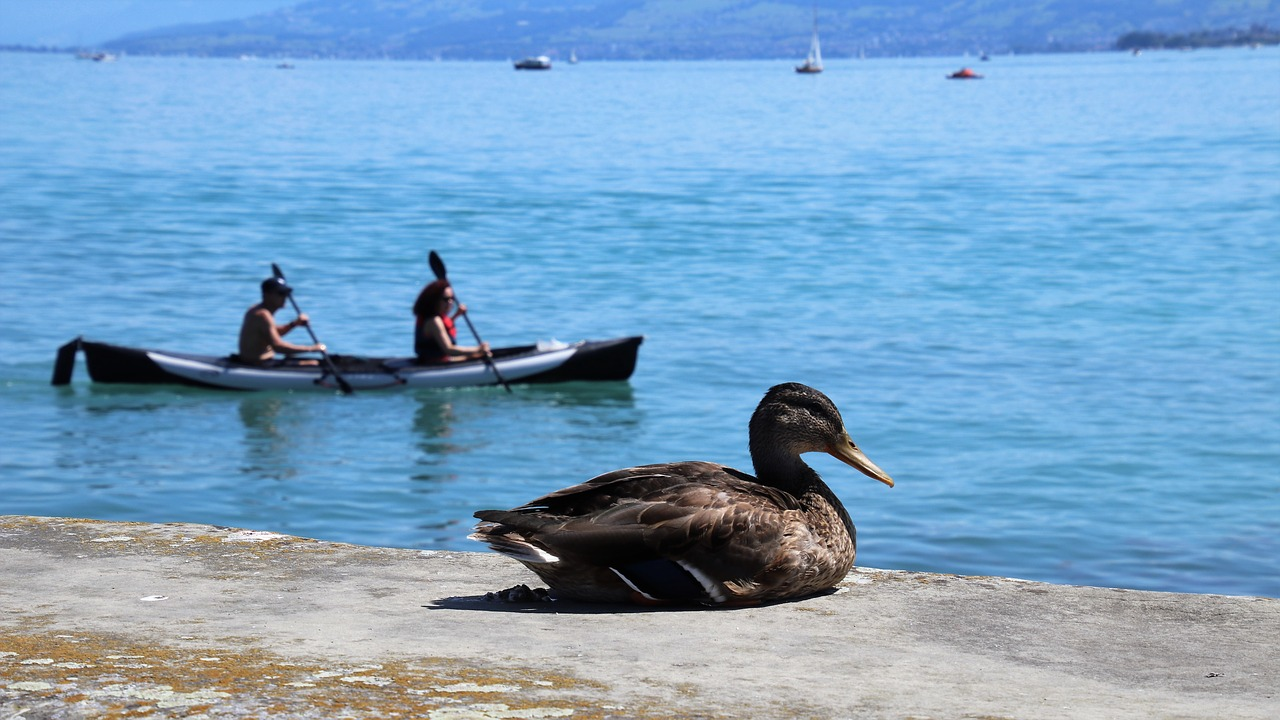kayak: (69, 326, 648, 391)
